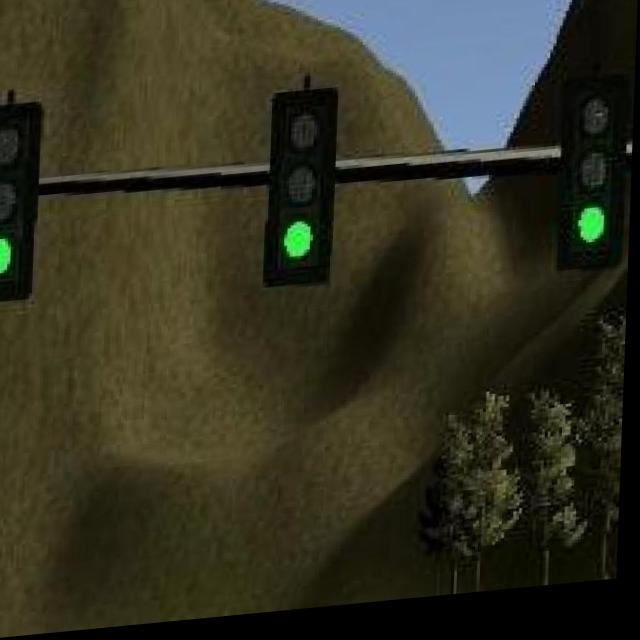green light: (262, 97, 335, 296), (565, 84, 628, 285), (0, 103, 43, 303)
